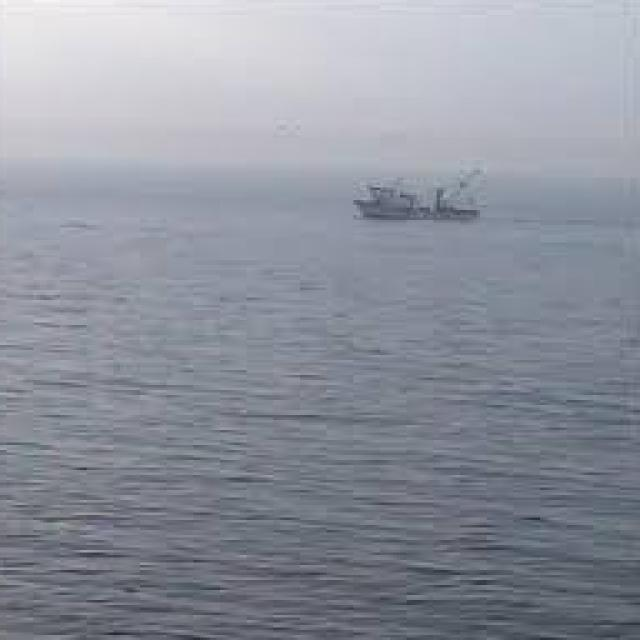fishing boat: (354, 167, 484, 220)
